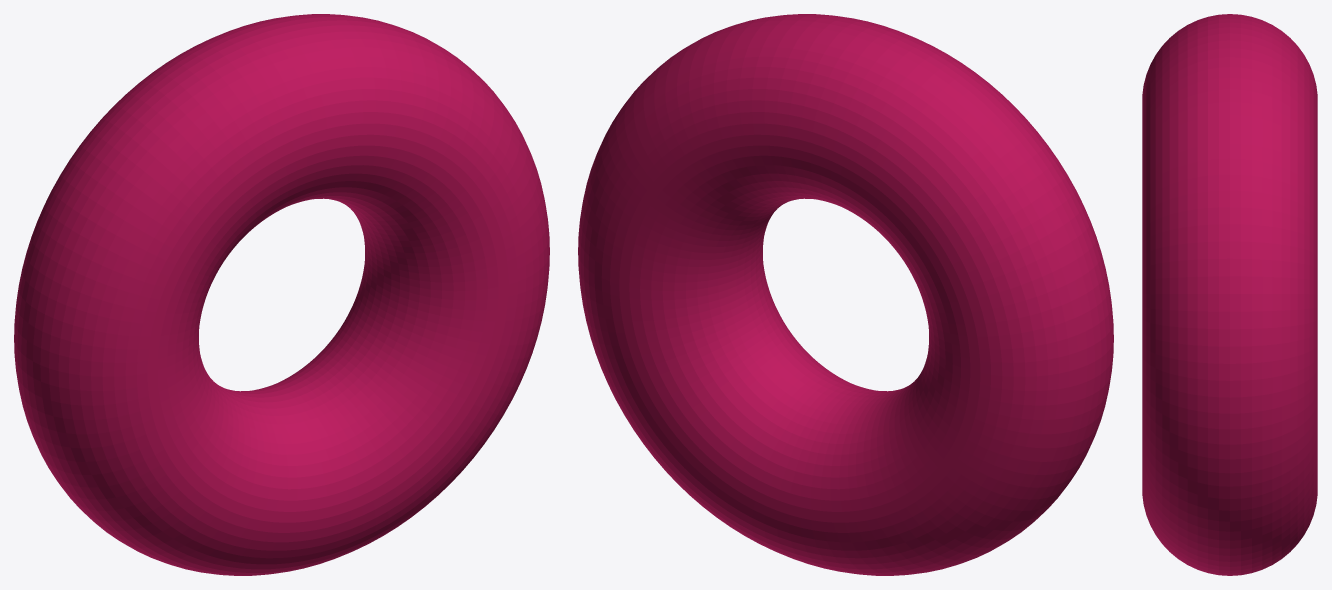
3 views of the same model, side by side, from view 1: azimuth 30°, elevation 25°; view 2: azimuth 150°, elevation 25°; view 3: azimuth 270°, elevation 25° (orthographic). The views are drawn at different scales.
Parts seen in each view (by area): view 1: world; view 2: world; view 3: world.
Boxes of the visible parts, bbox=[...] form: world: bbox=[14, 14, 549, 575]; world: bbox=[578, 14, 1113, 575]; world: bbox=[1142, 14, 1317, 575].
Bounding box in the file's own units: 24.27 × 24.27 × 7.59.
